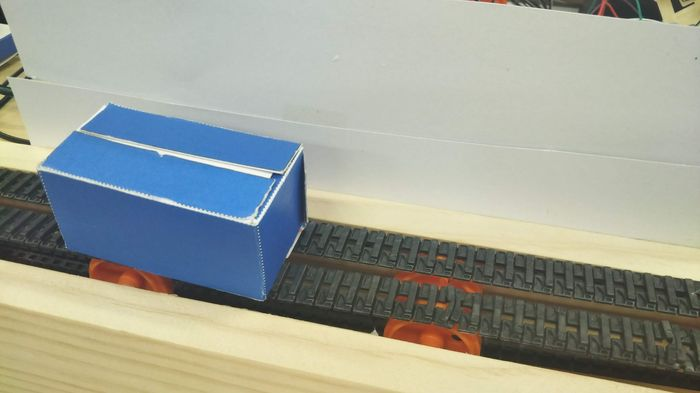box3: (35, 96, 312, 300)
